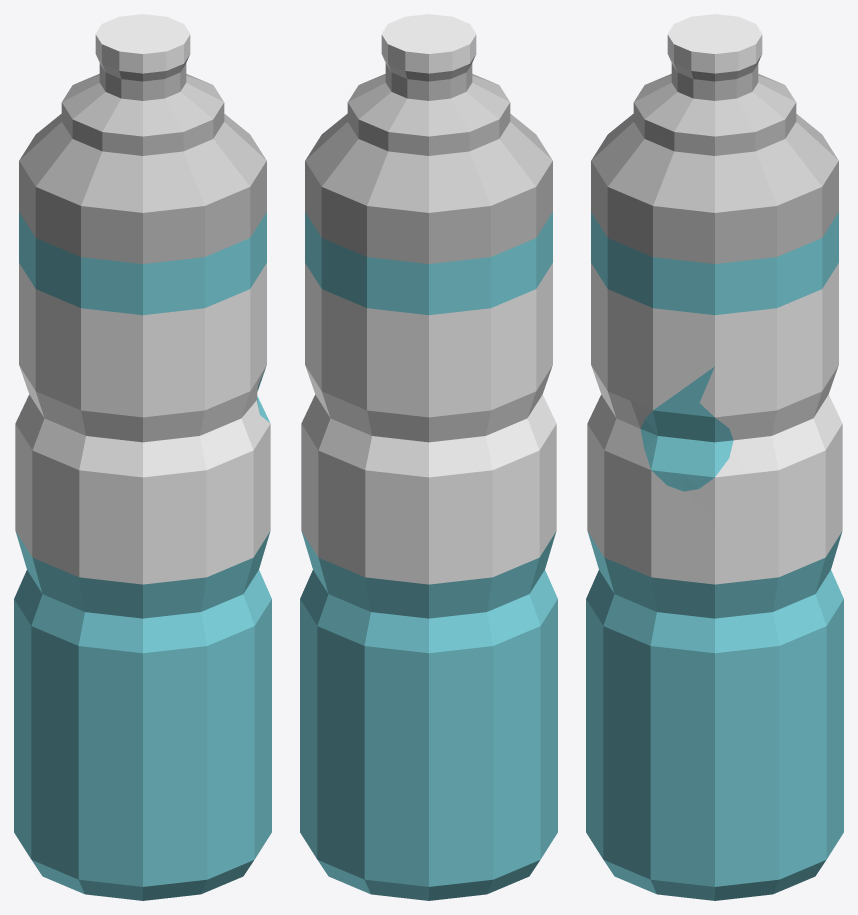
File: water.fbx
3 views of the same model, side by side, from view 1: azimuth 30°, elevation 25°; view 2: azimuth 150°, elevation 25°; view 3: azimuth 270°, elevation 25° (orthographic).
Parts seen in each view (by area): view 1: mesh_1869619761; view 2: mesh_1869619761; view 3: mesh_1869619761.
Part boxes in pixels (x1=…): mesh_1869619761: x1=14, y1=14, x2=271, y2=900; mesh_1869619761: x1=300, y1=14, x2=557, y2=900; mesh_1869619761: x1=586, y1=14, x2=843, y2=900.
Size of the model in its own units: 24 by 84 by 24.
